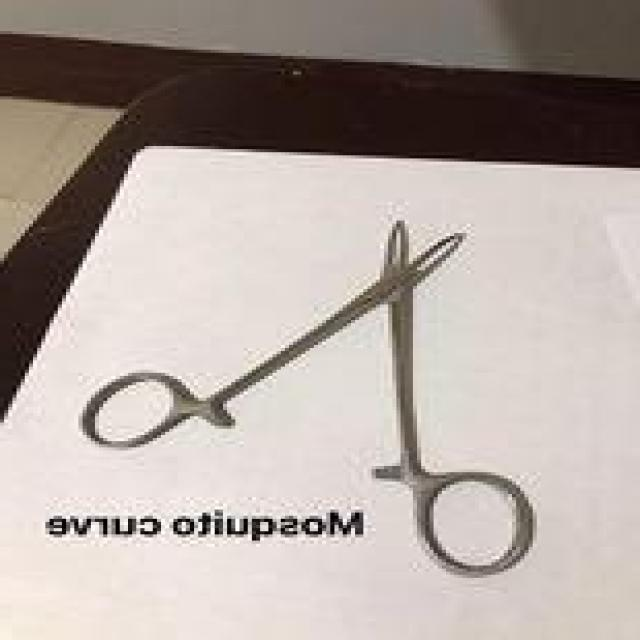Hemostat: (78, 214, 537, 578)
